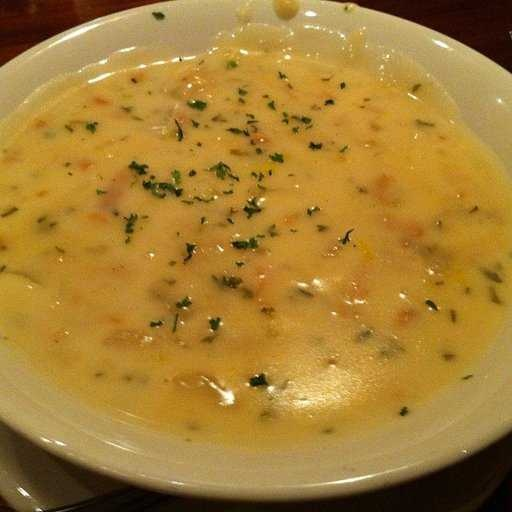soup: (1, 45, 512, 452)
